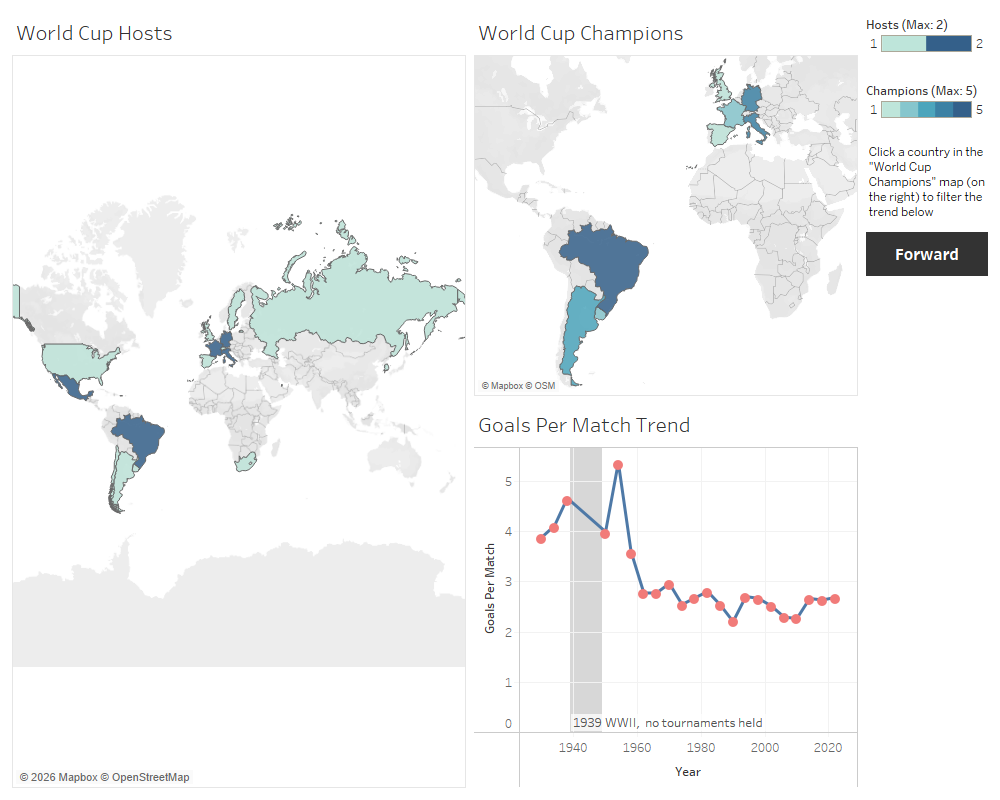

The page's visual inventory and layout, read from the dashboard file:
{"tool":"tableau","page":{"name":"World Cup: Overview","canvas":[1000,800],"ordinal":0},"visuals":[{"type":"worksheet","title":"World Cup Hosts","mark":"Automatic","box":[8,8,462.2,784]},{"type":"worksheet","title":"World Cup Champions","mark":"Automatic","box":[470.2,8,391.8,392]},{"type":"legend","title":"World Cup Hosts","param":"[federated.1i30lis0z26grw1e7vv5t0id9rb4].[cnt:edition:qk]","box":[862,8,130,65]},{"type":"legend","title":"World Cup Champions","param":"[federated.1i30lis0z26grw1e7vv5t0id9rb4].[cnt:edition:qk]","box":[862,73,130,65]},{"type":"text","box":[862,138,130,88]},{"type":"dashboard-object","box":[862,226,130,52]},{"type":"worksheet","title":"Goals Per Match Trend","mark":"Circle","rows":["goals_per_match","goals_per_match"],"cols":["year"],"box":[470.2,400,391.8,392]}]}

Visuals, with their boxes in screenshot pixels (x1, y1, x2, y2), scaled from the page's 1000x800 canvas onto the 1000x800 screenshot:
"World Cup Hosts" worksheet: {"left": 8, "top": 8, "right": 470, "bottom": 792}
"World Cup Champions" worksheet: {"left": 470, "top": 8, "right": 862, "bottom": 400}
"World Cup Hosts" legend: {"left": 862, "top": 8, "right": 992, "bottom": 73}
"World Cup Champions" legend: {"left": 862, "top": 73, "right": 992, "bottom": 138}
text: {"left": 862, "top": 138, "right": 992, "bottom": 226}
dashboard-object: {"left": 862, "top": 226, "right": 992, "bottom": 278}
"Goals Per Match Trend" worksheet (Circle marks): {"left": 470, "top": 400, "right": 862, "bottom": 792}
